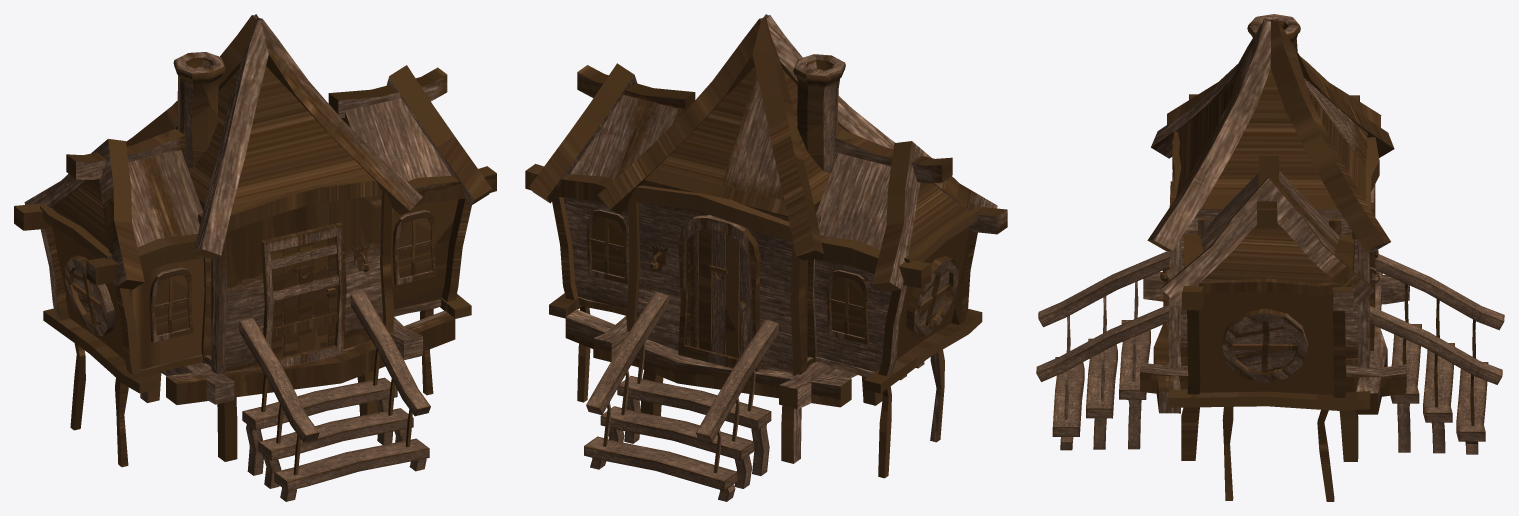
Rendered from House-6.fbx.
3 renders of one model, left to right at view 1: azimuth 30°, elevation 25°; view 2: azimuth 150°, elevation 25°; view 3: azimuth 270°, elevation 25°, orthographic.
Parts seen in each view (by area): view 1: LOW.077; view 2: LOW.077; view 3: LOW.077.
Part boxes in pixels (x1,y1,x2,y2): LOW.077: [14, 14, 496, 501]; LOW.077: [525, 14, 1007, 501]; LOW.077: [1036, 14, 1504, 501].
Size of the model in its own units: 256 by 244 by 255.
